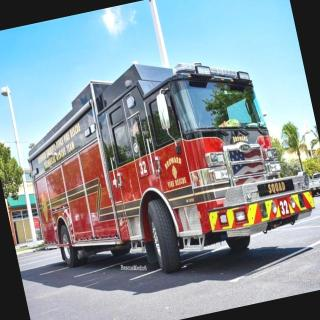Fire_truck: (9, 29, 320, 297)
